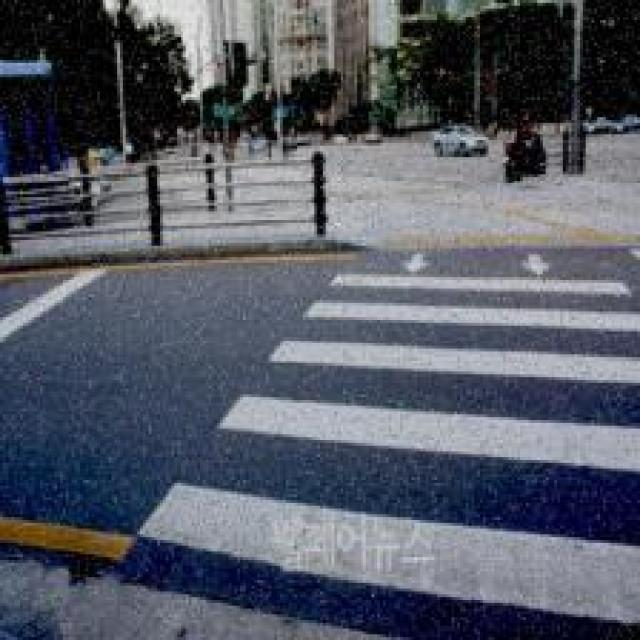walk-crossing: (162, 276, 640, 636)
